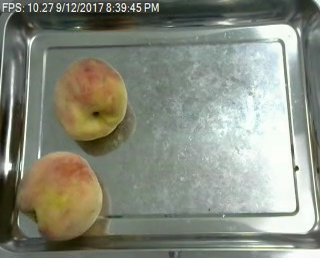Peach: (19, 150, 104, 240), (53, 56, 128, 142)
